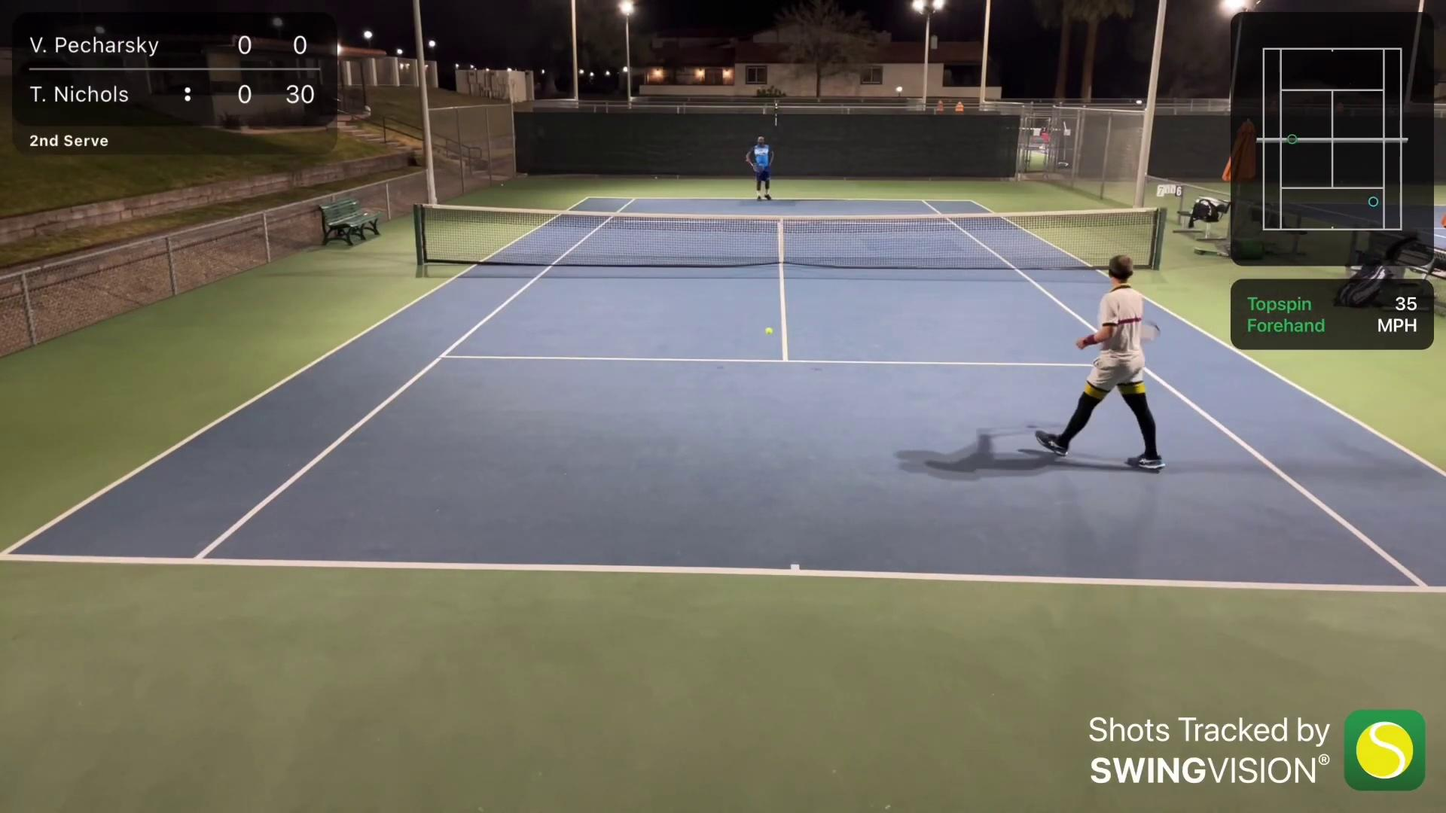ball: (762, 324, 776, 340)
